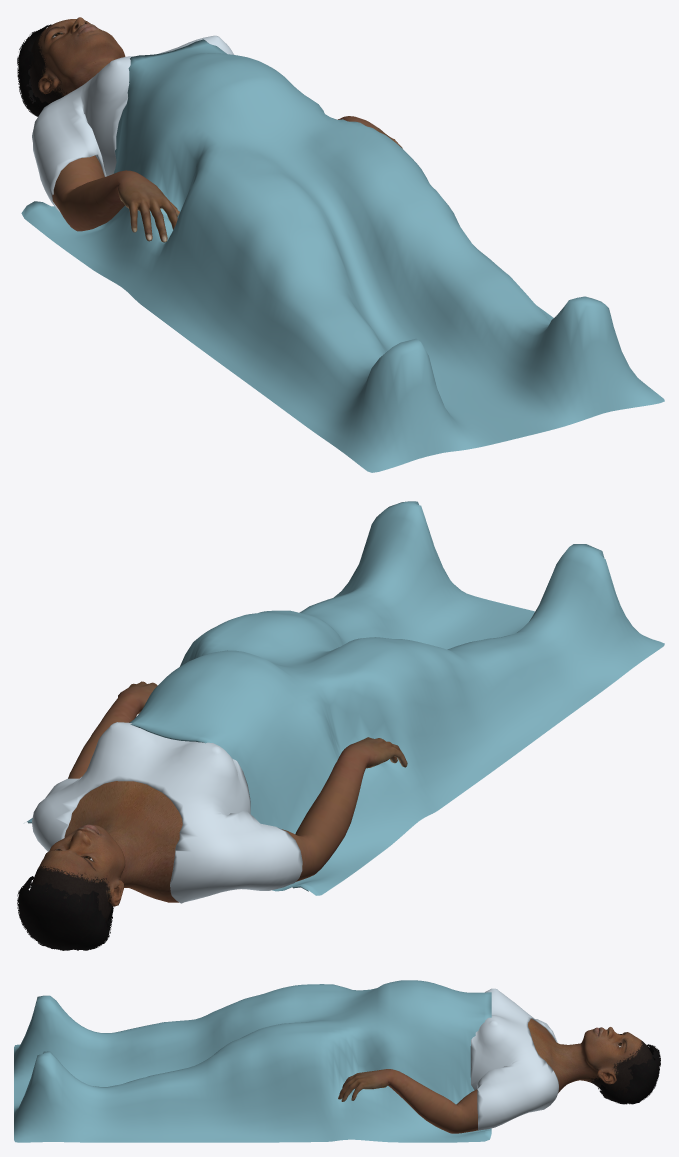
3 views of the same model, one above another, from view 1: azimuth 30°, elevation 25°; view 2: azimuth 150°, elevation 25°; view 3: azimuth 270°, elevation 25° (orthographic). The views are drawn at different scales.
Parts seen in each view (by area): view 1: sheet, gown, arms, body, hair; view 2: sheet, gown, body, arms, hair; view 3: sheet, gown, body, arms, hair.
Boxes of the visible parts, left/top/right/bottom form: sheet: left=21, top=39, right=664, bottom=472; gown: left=32, top=35, right=234, bottom=212; arms: left=52, top=116, right=402, bottom=242; body: left=29, top=17, right=125, bottom=103; hair: left=17, top=24, right=53, bottom=116; sheet: left=27, top=501, right=664, bottom=895; gown: left=32, top=722, right=302, bottom=903; body: left=32, top=781, right=182, bottom=922; arms: left=68, top=681, right=407, bottom=881; hair: left=17, top=876, right=113, bottom=950; sheet: left=14, top=980, right=491, bottom=1142; gown: left=470, top=988, right=558, bottom=1130; body: left=528, top=1019, right=652, bottom=1096; arms: left=338, top=1069, right=477, bottom=1133; hair: left=598, top=1044, right=660, bottom=1104.
Bounding box in the file's own units: 0.6371 × 0.3279 × 1.78.
Materials: 8 (6 with a texture image).
